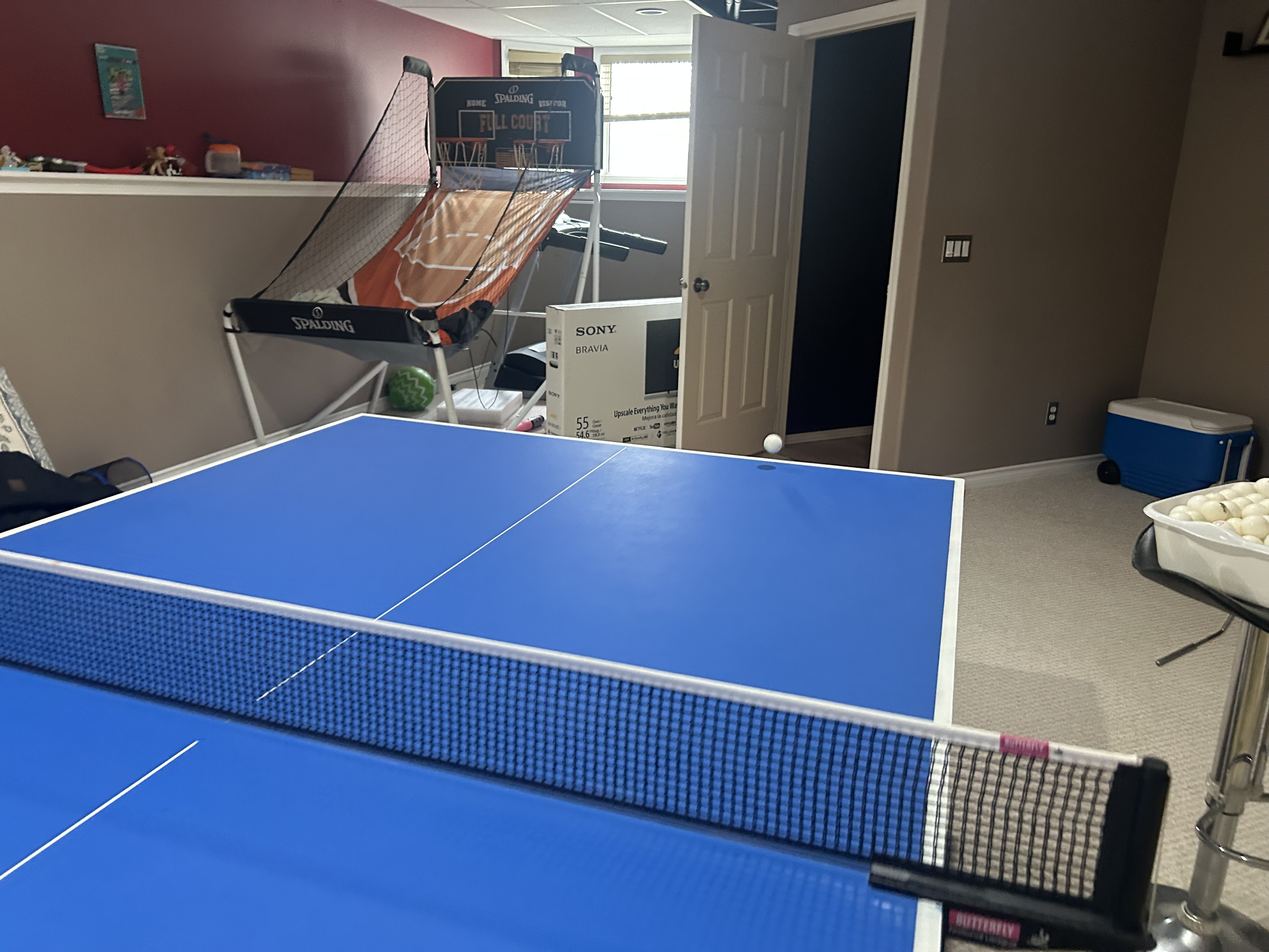Ball: (759, 432, 784, 462)
